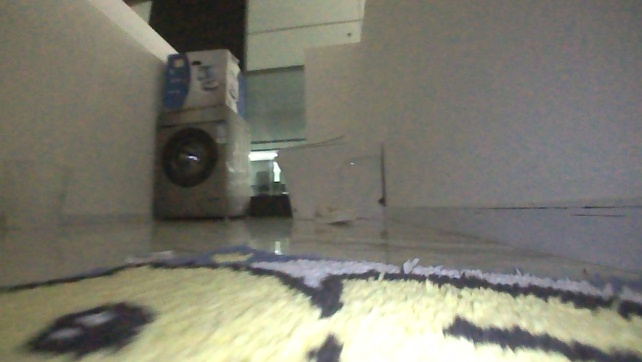blanket: (0, 240, 641, 361)
toilet: (271, 131, 389, 222)
washing_machine: (148, 102, 255, 222)
